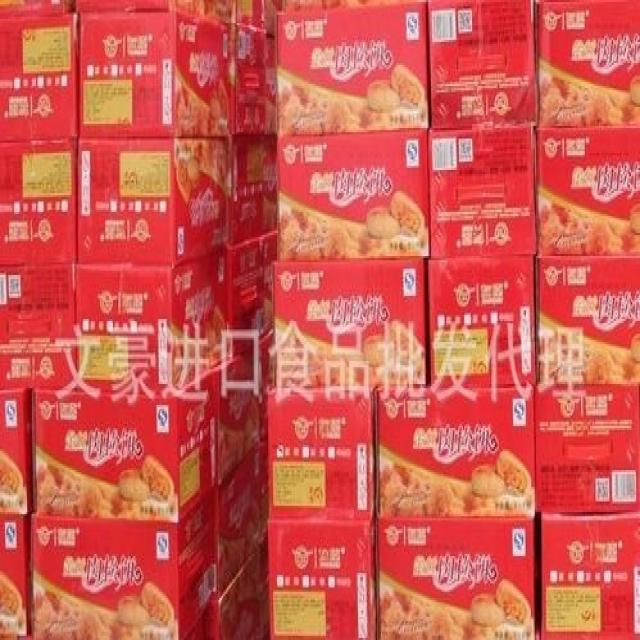box: (30, 365, 218, 521), (29, 488, 217, 636), (77, 246, 228, 393), (374, 384, 535, 517), (278, 0, 430, 136), (77, 134, 229, 265), (279, 127, 429, 258), (80, 11, 233, 139), (272, 258, 427, 384), (375, 517, 535, 638), (426, 123, 538, 258), (268, 382, 376, 519), (425, 253, 535, 383), (536, 120, 639, 256), (429, 1, 538, 126), (535, 254, 639, 385), (268, 517, 378, 638), (533, 384, 638, 510), (534, 0, 639, 125), (540, 510, 639, 638), (1, 15, 80, 140), (0, 138, 77, 266), (0, 264, 76, 391), (217, 330, 272, 485), (216, 438, 269, 591), (224, 230, 279, 360), (205, 543, 268, 638), (228, 132, 279, 245), (229, 25, 280, 134), (0, 391, 33, 513), (0, 511, 30, 638), (73, 1, 235, 24), (236, 1, 283, 38), (0, 0, 75, 18), (284, 1, 388, 11), (187, 609, 205, 638)
